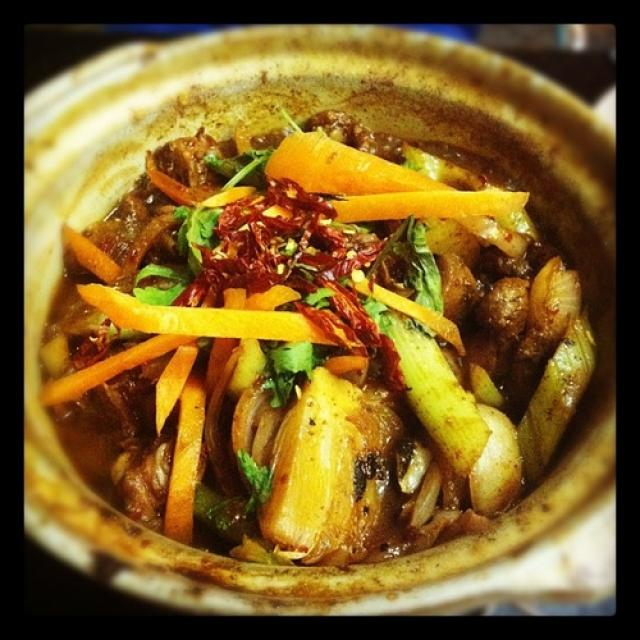汤锅炖物: (22, 28, 621, 608)
